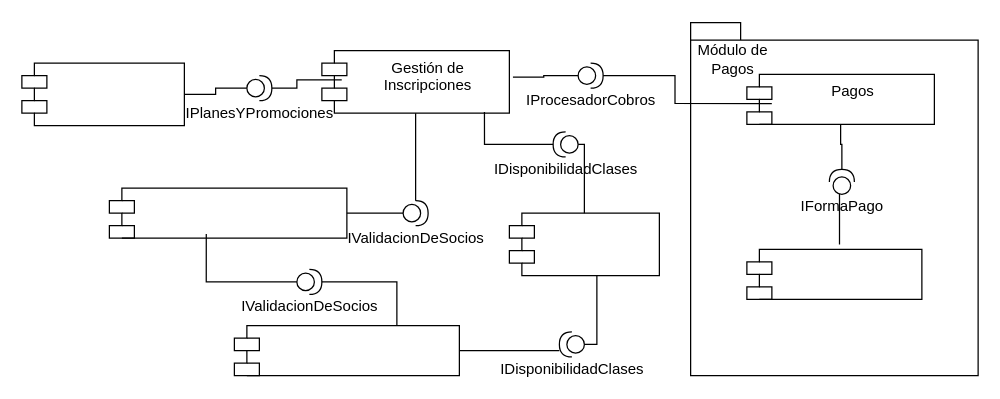
This 1000x399 diagram has some shape labels left out. The shapes that lost their labels are listed below. From the top down, each one's centre as x and y in pixels, then its label:
At (102,94): "Gestión Comercial".
At (227,212): "Gestión de Usuarios".
At (583,244): "Catálogo de Clases".
At (834,273): "Forma de Pago".
At (346,350): "Control de Asistencia".
